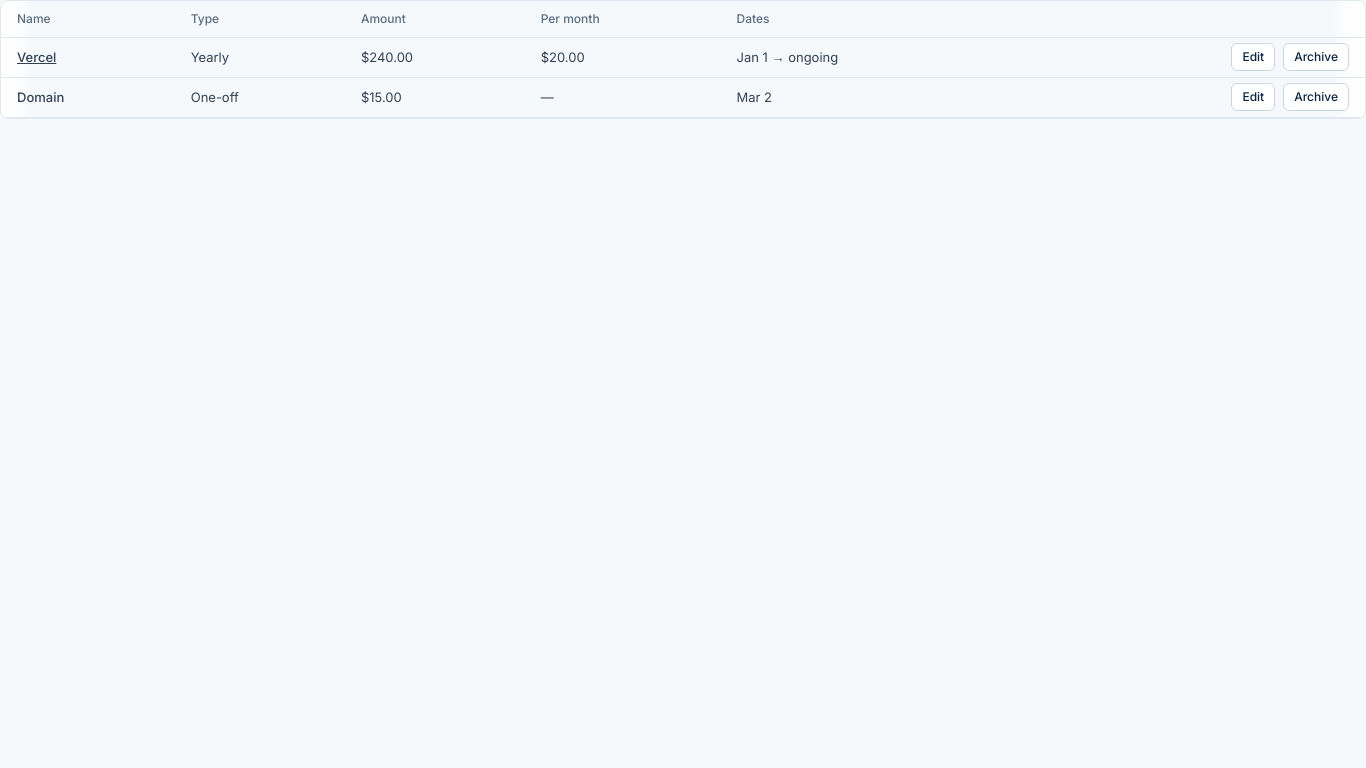
it: CostItemsTable › shows types, per-month and the archive confirmation
The width and height of the screenshot is (1366, 768).
Expected: the text "Yearly" is shown, [179,37,349,77]
Expected: the text "$20.00" is shown, [529,37,724,77]
Click the button with aria-label "Archive Domain". click: [1316, 97]
box: [1283,83,1349,111]
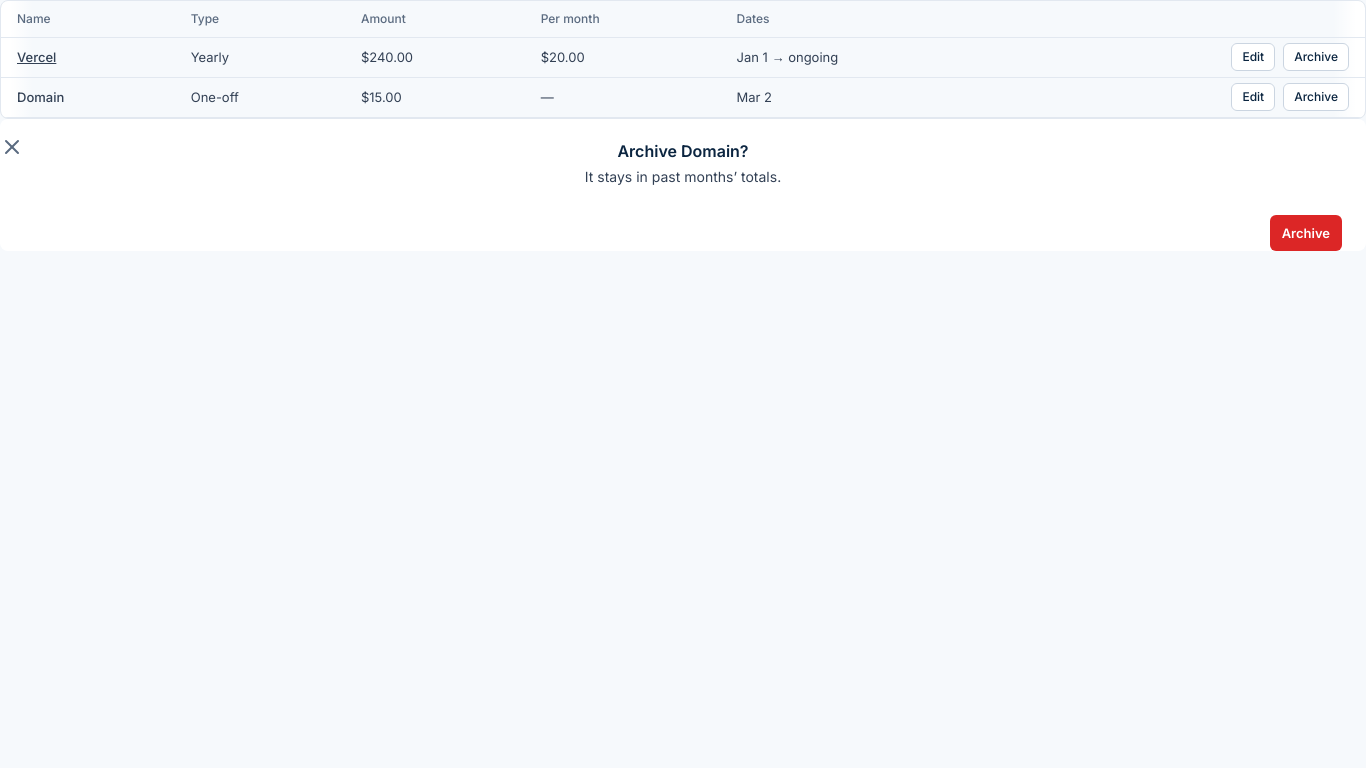
Expected: the heading "Archive Domain?" is shown, [617,140,748,160]
Expected: the text "It stays in past months’ totals." is shown, [585,168,781,184]
